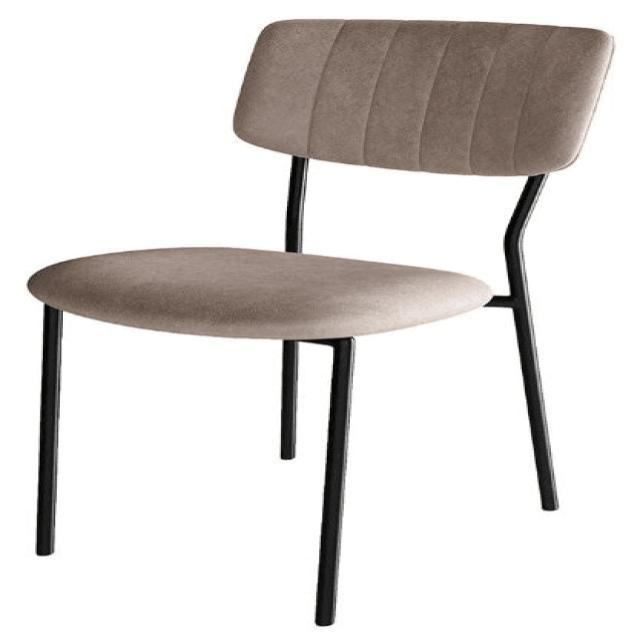chair: (18, 10, 625, 624), (23, 19, 620, 340)
